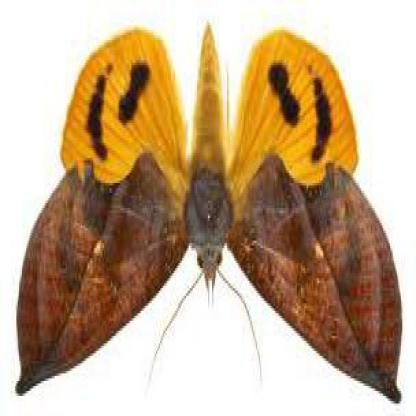fruit sucking moth: (15, 23, 405, 410)
